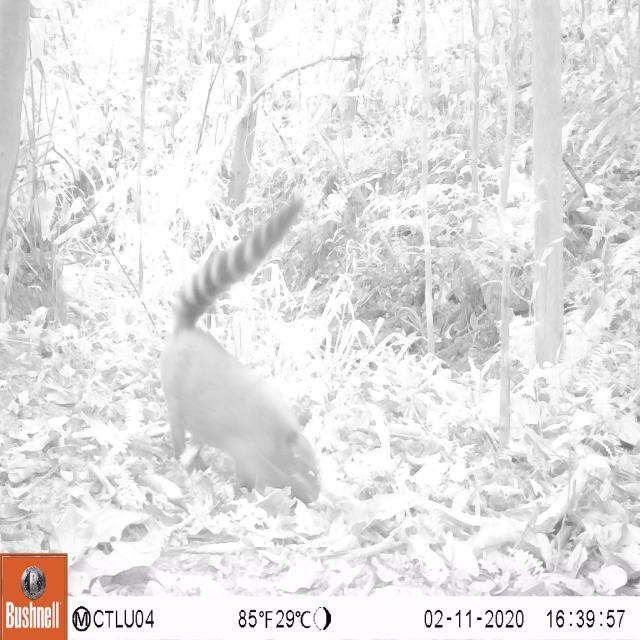South American Coati: (150, 184, 343, 518)
